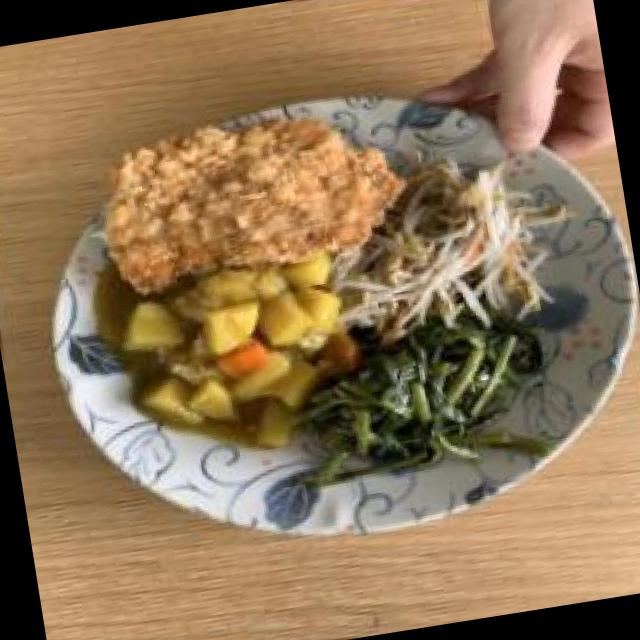curry: (110, 266, 361, 424)
fried_chicken: (94, 95, 408, 299)
mung_bean_sprouts: (356, 175, 537, 324)
water_spinach: (316, 306, 556, 484)
